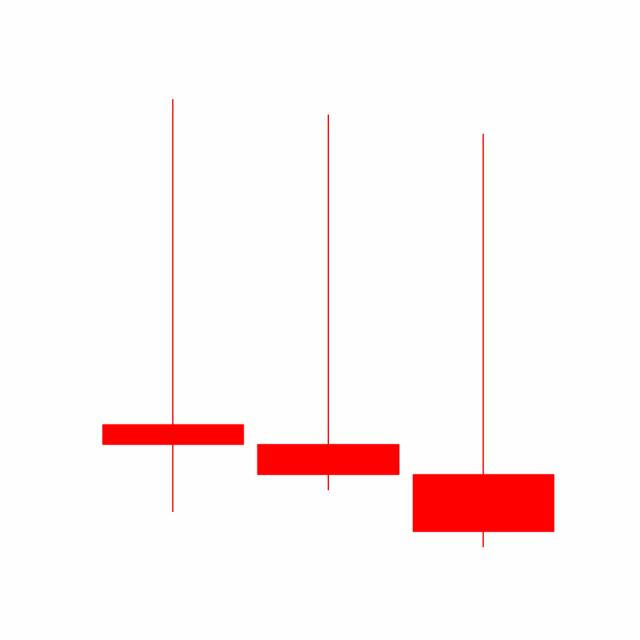Gravestone Doji: (249, 110, 406, 494)
